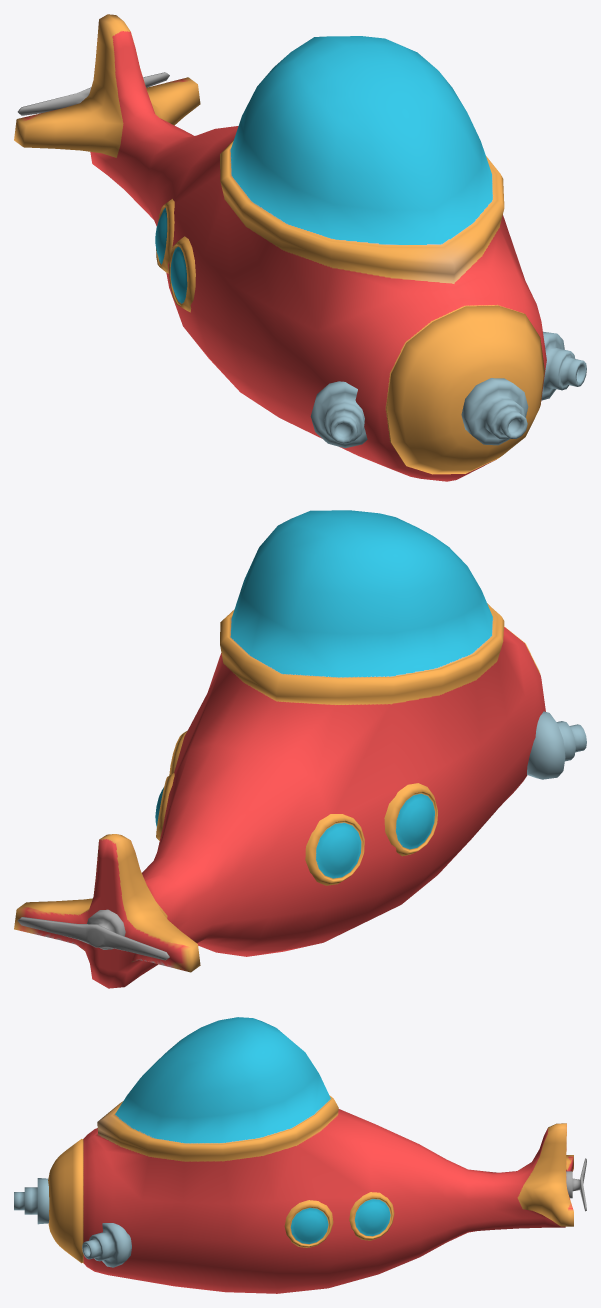
Rendered from submarino_final.fbx.
The picture shows the model from 3 angles, top to bottom: view 1: azimuth 30°, elevation 25°; view 2: azimuth 150°, elevation 25°; view 3: azimuth 270°, elevation 25°; orthographic projection. The views are drawn at different scales.
Visible parts, largest first — view 1: Cube, Cylinder.002, Cylinder, Sphere, Cylinder.001; view 2: Cube, Sphere, Cylinder.001, Cylinder.002; view 3: Cube, Sphere, Cylinder.002, Cylinder, Cylinder.001.
Part boxes in pixels (x1,y1,x2,y2): Cube: (14,14,546,481); Cylinder.002: (310,331,586,448); Cylinder: (461,378,528,445); Sphere: (155,199,195,312); Cylinder.001: (17,72,169,115); Cube: (14,510,545,988); Sphere: (155,730,437,885); Cylinder.001: (17,909,169,960); Cylinder.002: (527,711,586,779); Cube: (48,1017,573,1293); Sphere: (284,1192,394,1247); Cylinder.002: (82,1223,131,1267); Cylinder: (14,1178,49,1224); Cylinder.001: (566,1158,586,1211).
Size of the model in its own units: 607 by 889 by 1732.
